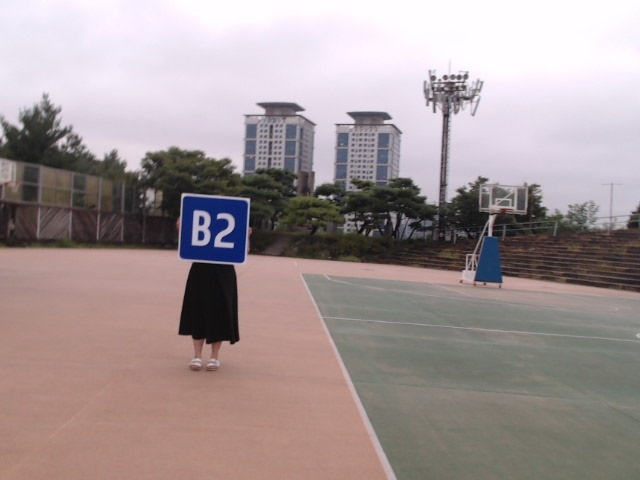delivery_b2: (178, 195, 250, 265)
